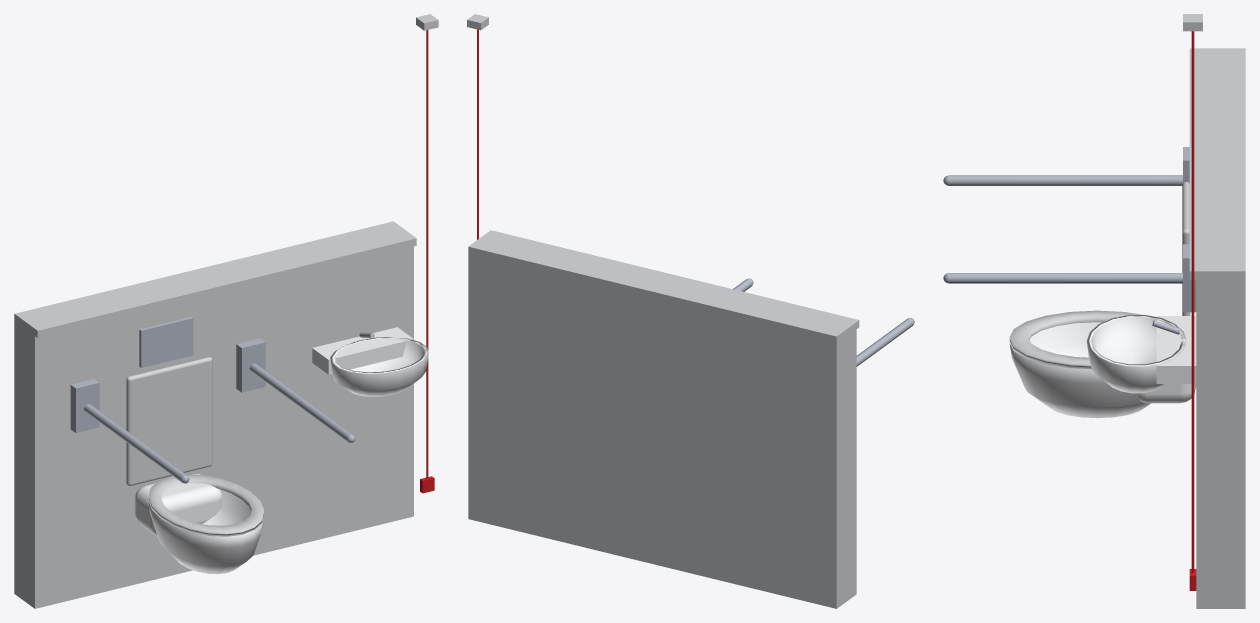
File: ame-005.glb
The picture shows the model from 3 angles, left to right: view 1: azimuth 30°, elevation 25°; view 2: azimuth 150°, elevation 25°; view 3: azimuth 270°, elevation 25°; orthographic projection. The views are drawn at different scales.
Visible parts, largest first — view 1: white, porcelain, steel, accent_red; view 2: white, steel; view 3: white, porcelain, steel, accent_red.
Boxes of the visible parts, left/top/right/bottom form: white: left=14, top=14, right=438, bottom=608; porcelain: left=134, top=327, right=428, bottom=574; steel: left=70, top=316, right=374, bottom=483; accent_red: left=420, top=30, right=434, bottom=493; white: left=467, top=14, right=859, bottom=608; steel: left=733, top=278, right=914, bottom=366; white: left=1009, top=14, right=1245, bottom=608; porcelain: left=1009, top=315, right=1196, bottom=418; steel: left=943, top=147, right=1196, bottom=334; accent_red: left=1189, top=31, right=1196, bottom=590.
Size of the model in its own units: 1.68 by 2 by 0.917.
